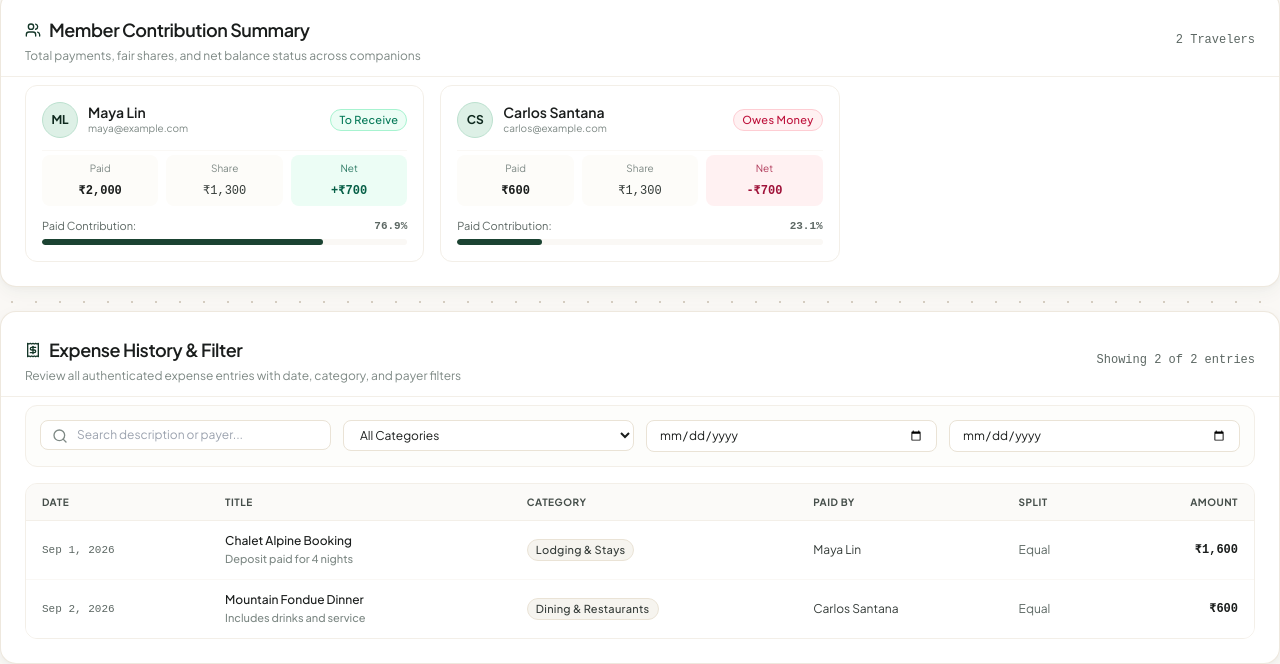
Scenario: BudgetAnalytics Component UI Tests › filters expense history by search query and category
The image size is (1280, 664).
(page scrolled)
Expected: the text "Chalet Alpine Booking" is shown, 225,532 -> 352,548
Expected: the text "Mountain Fondue Dinner" is shown, 225,592 -> 364,608
// Search for "Fondue"
Type "Fondue" into the field with placeholder "Search description or payer..." at (186, 434), box 40,420 -> 331,450
(page scrolled)
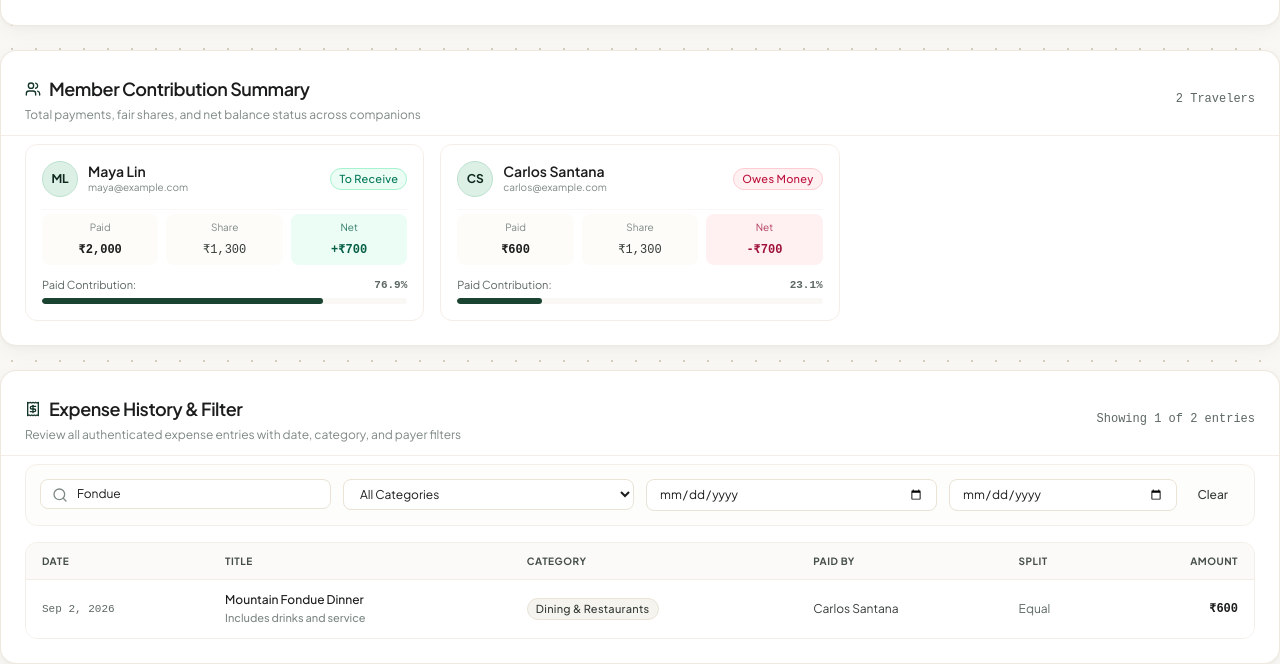
Expected: the text "Mountain Fondue Dinner" is shown, 225,592 -> 364,608
Now the text "Chalet Alpine Booking" is gone
